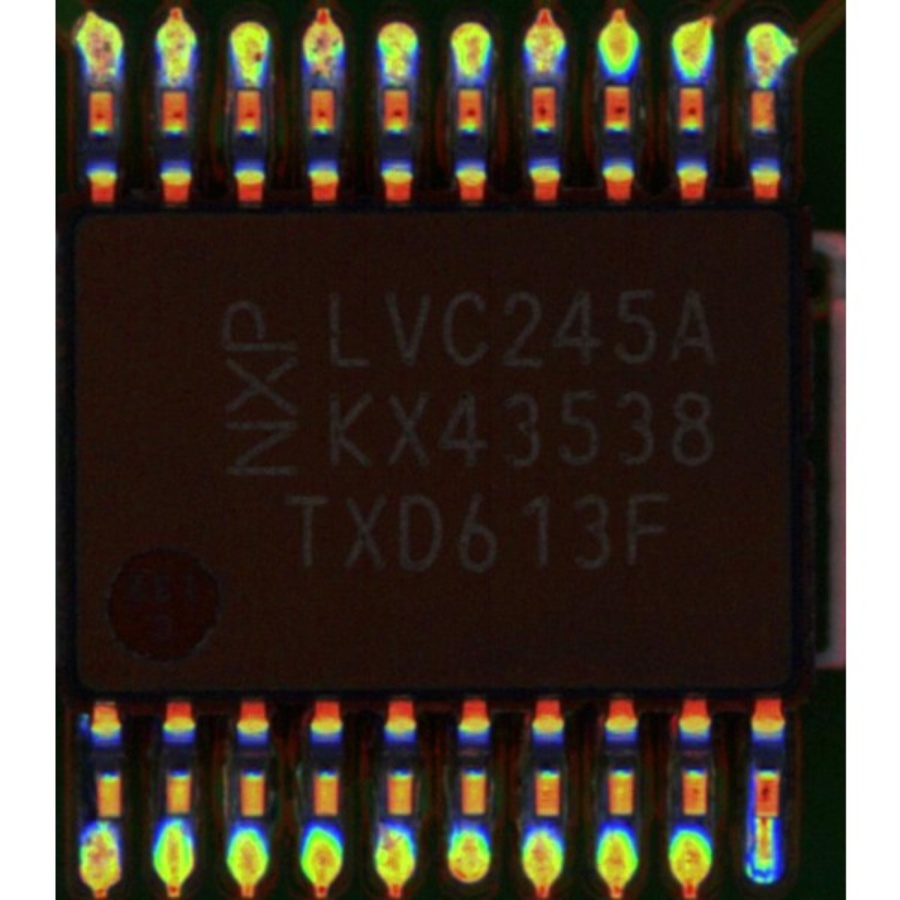Bad_podu: (757, 799, 773, 839)
